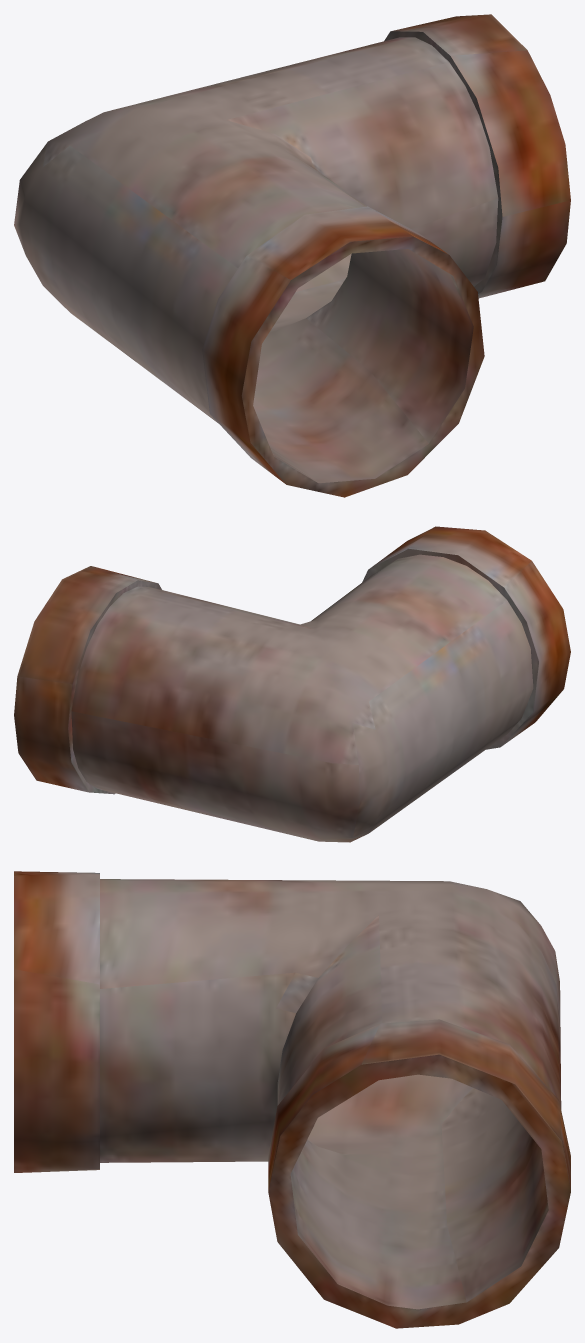
File: small_steel_pipe_14.glb
3 views of the same model, one above another, from view 1: azimuth 30°, elevation 25°; view 2: azimuth 150°, elevation 25°; view 3: azimuth 270°, elevation 25° (orthographic). The views are drawn at different scales.
Parts seen in each view (by area): view 1: small_steel_pipe_14; view 2: small_steel_pipe_14; view 3: small_steel_pipe_14.
Boxes of the visible parts, box(x1,y1,x2,y2) form: small_steel_pipe_14: box(14, 14, 570, 497); small_steel_pipe_14: box(14, 526, 570, 842); small_steel_pipe_14: box(14, 871, 570, 1328).
Size of what is drawn, in the model's own units: 0.0395 by 0.0215 by 0.0396.
Materials: 1 (1 with a texture image).
